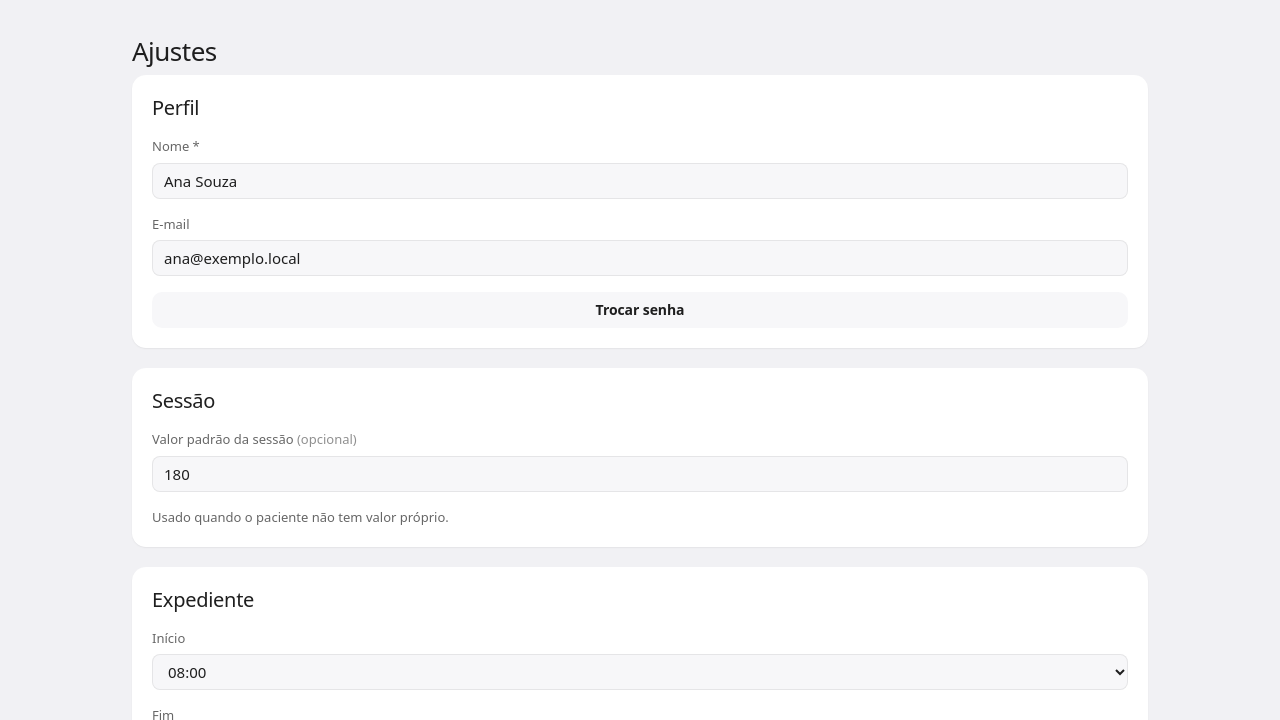
it: AjustesPage › salvar manda o PUT completo, com o expediente do formulario, e anuncia o sucesso
Expected: the heading "Ajustes" is shown, top-left (132, 33), bottom-right (217, 69)
Replace the text in the field labelled "Nome *" with "Ana Lima" at (640, 180), box top-left (152, 162), bottom-right (1128, 198)
(page scrolled)
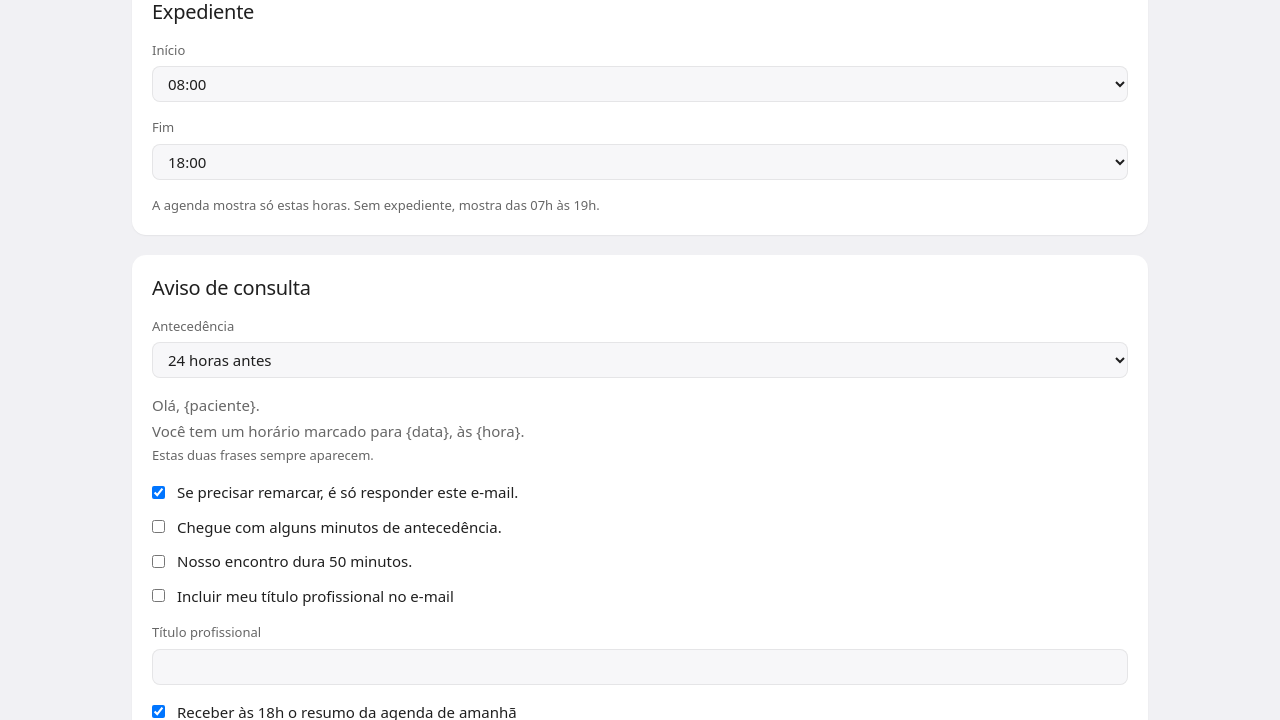
Select "Na véspera, às 18h" in the dropdown labelled "Antecedência" at (640, 360), box top-left (152, 342), bottom-right (1128, 378)
Click the checkbox labelled "Nosso encontro dura 50 minutos." at (158, 561), box top-left (152, 555), bottom-right (165, 568)
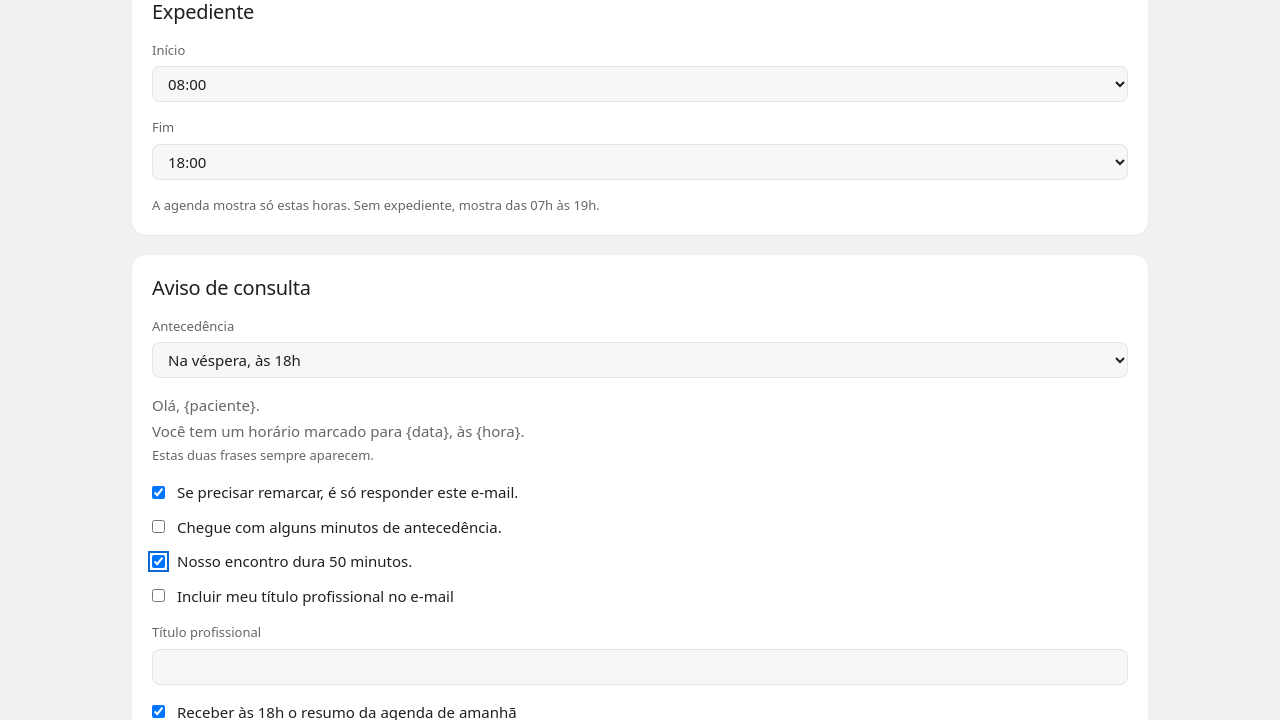
Click the checkbox labelled "Incluir meu título profissional no e-mail" at (158, 596), box top-left (152, 589), bottom-right (165, 602)
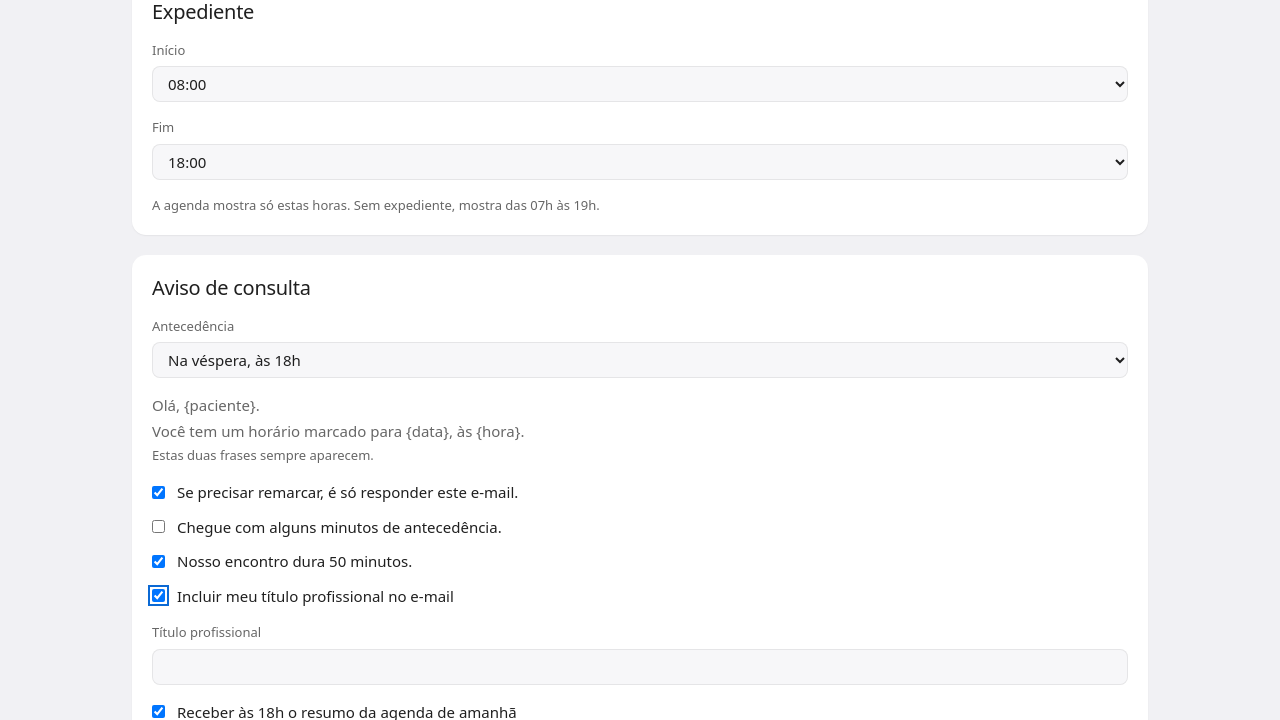
Type "Psicóloga" into the field labelled "Título profissional" at (640, 666), box top-left (152, 648), bottom-right (1128, 684)
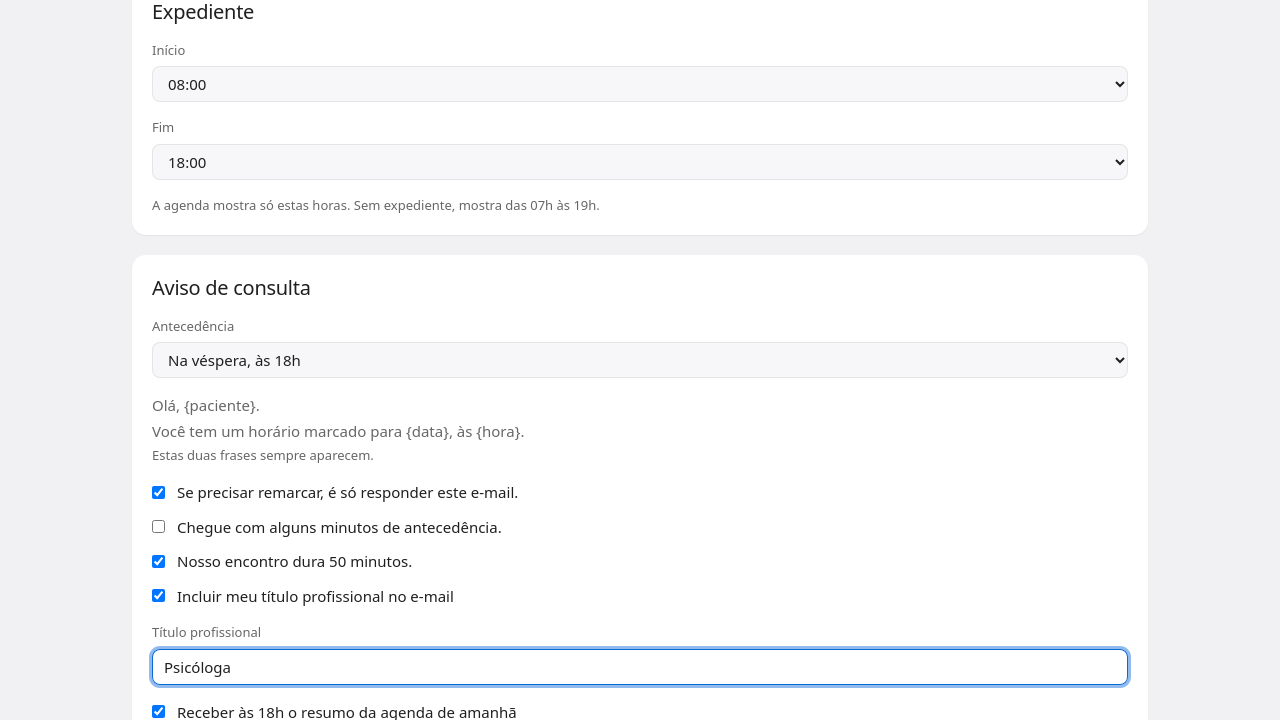
Click the checkbox labelled "Receber às 18h o resumo da agenda de amanhã" at (158, 712), box top-left (152, 705), bottom-right (165, 718)
(page scrolled)
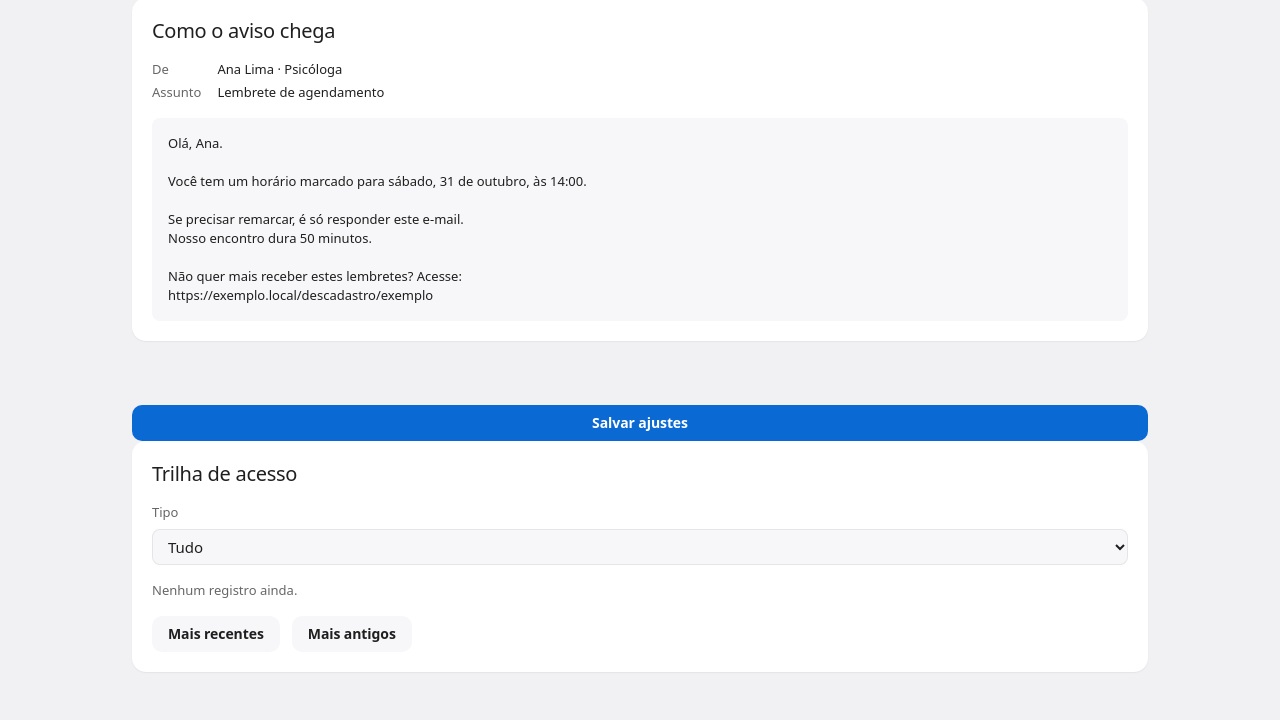
Click the button "Salvar ajustes" at (640, 423), box top-left (132, 405), bottom-right (1148, 441)
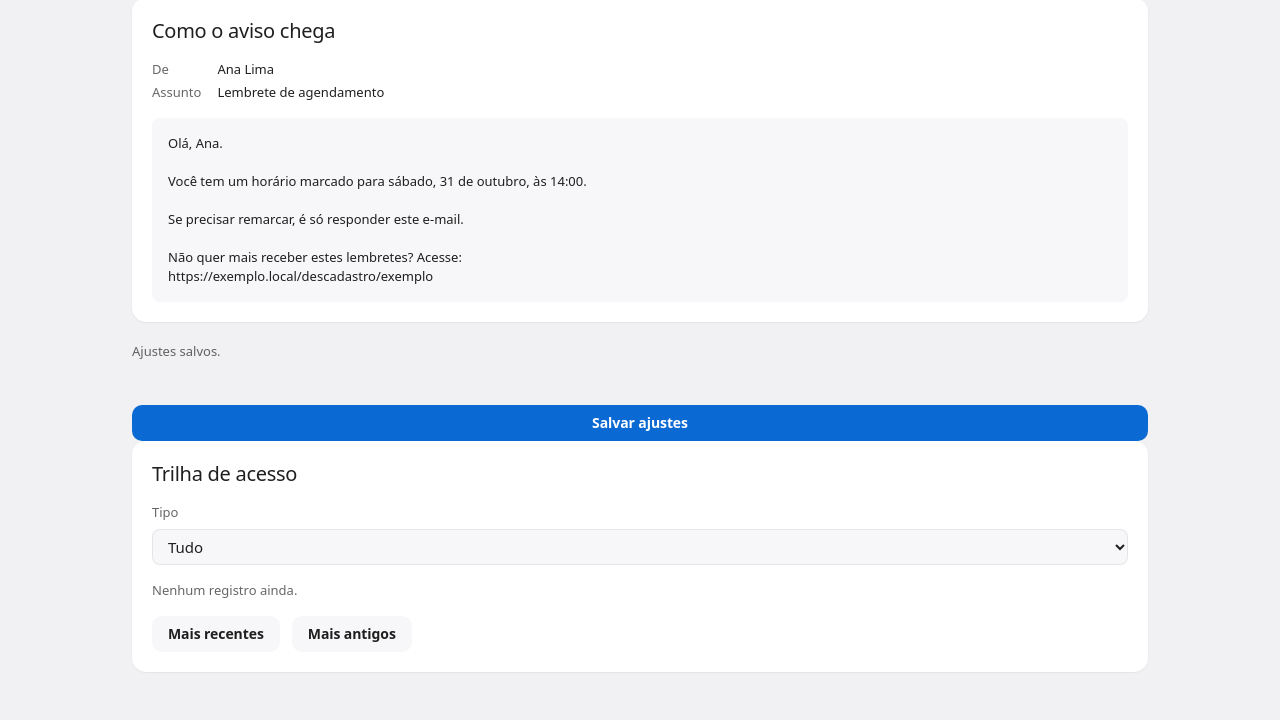
Expected: the message reads "Ajustes salvos.", top-left (132, 342), bottom-right (221, 360)
